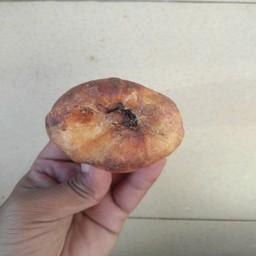Bad_pomegranate: (41, 73, 185, 172)
